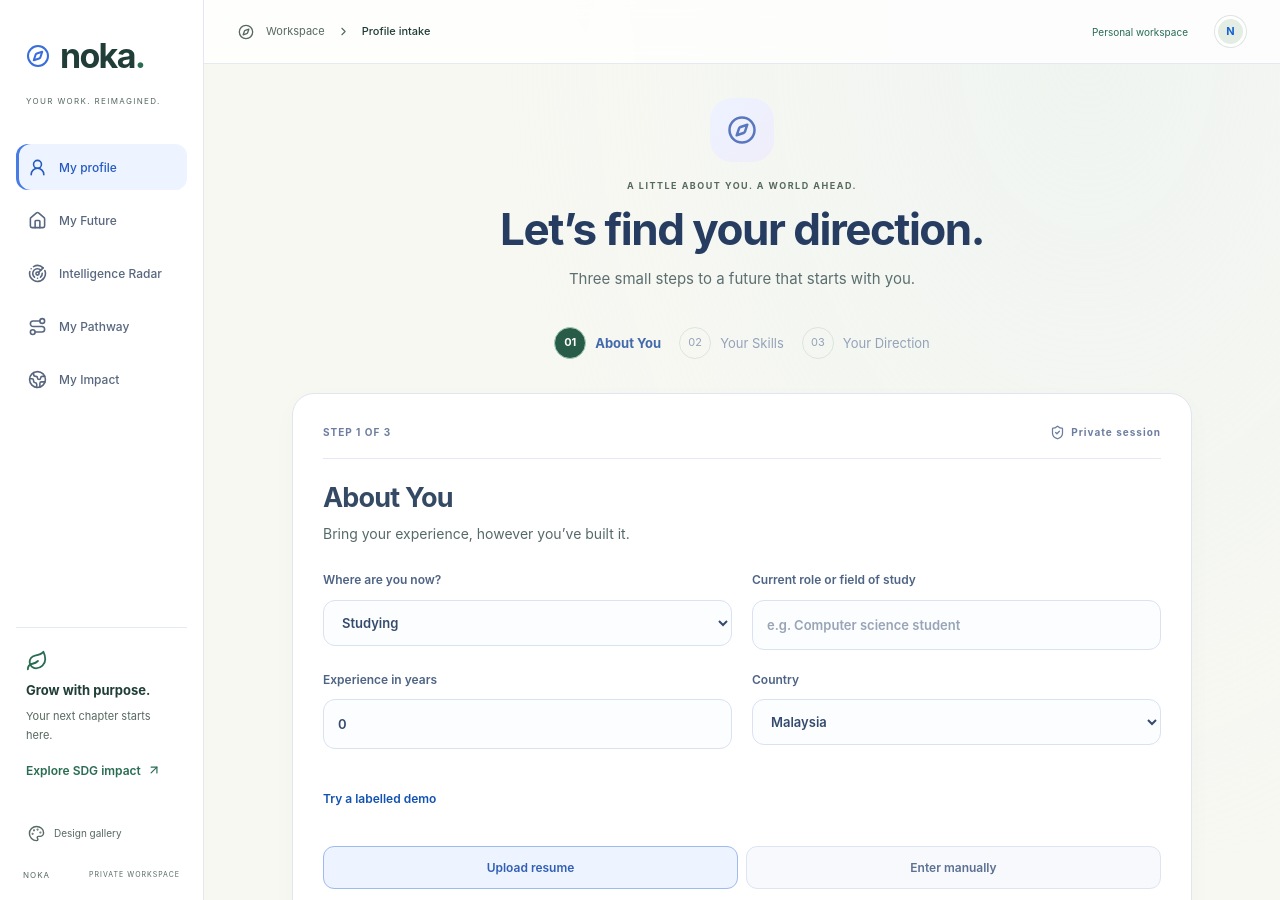
Test case: private profile journey › deduplicates OpenAI suggestions and allows adding without a per-skill dropdown
Click the button "Enter manually".
click(954, 868)  # box x1=746 y1=846 x2=1161 y2=889
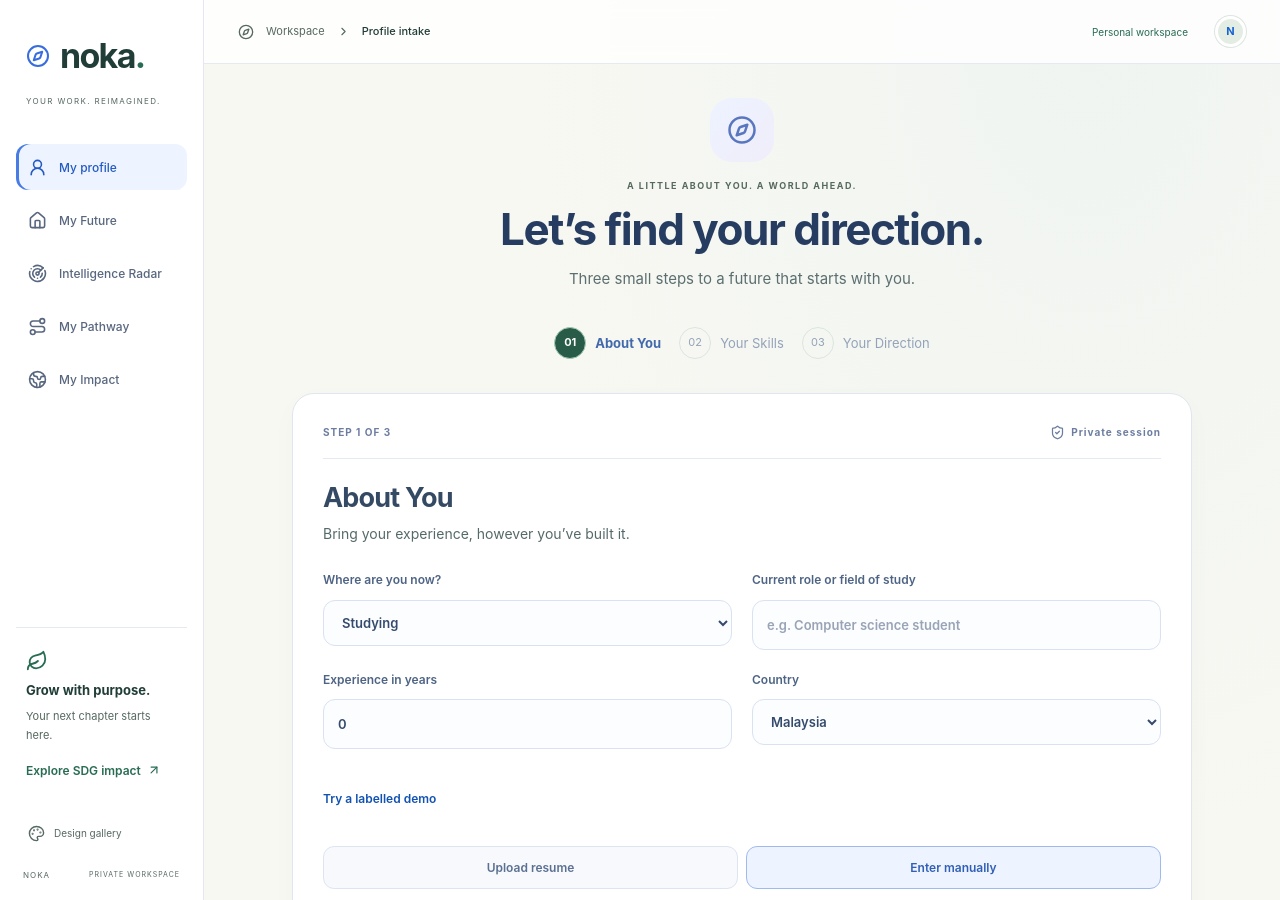
Type "Computer science" into the field labelled "Current role or field of study".
click(956, 625); type("Computer science")  # box x1=752 y1=600 x2=1161 y2=650
(page scrolled)
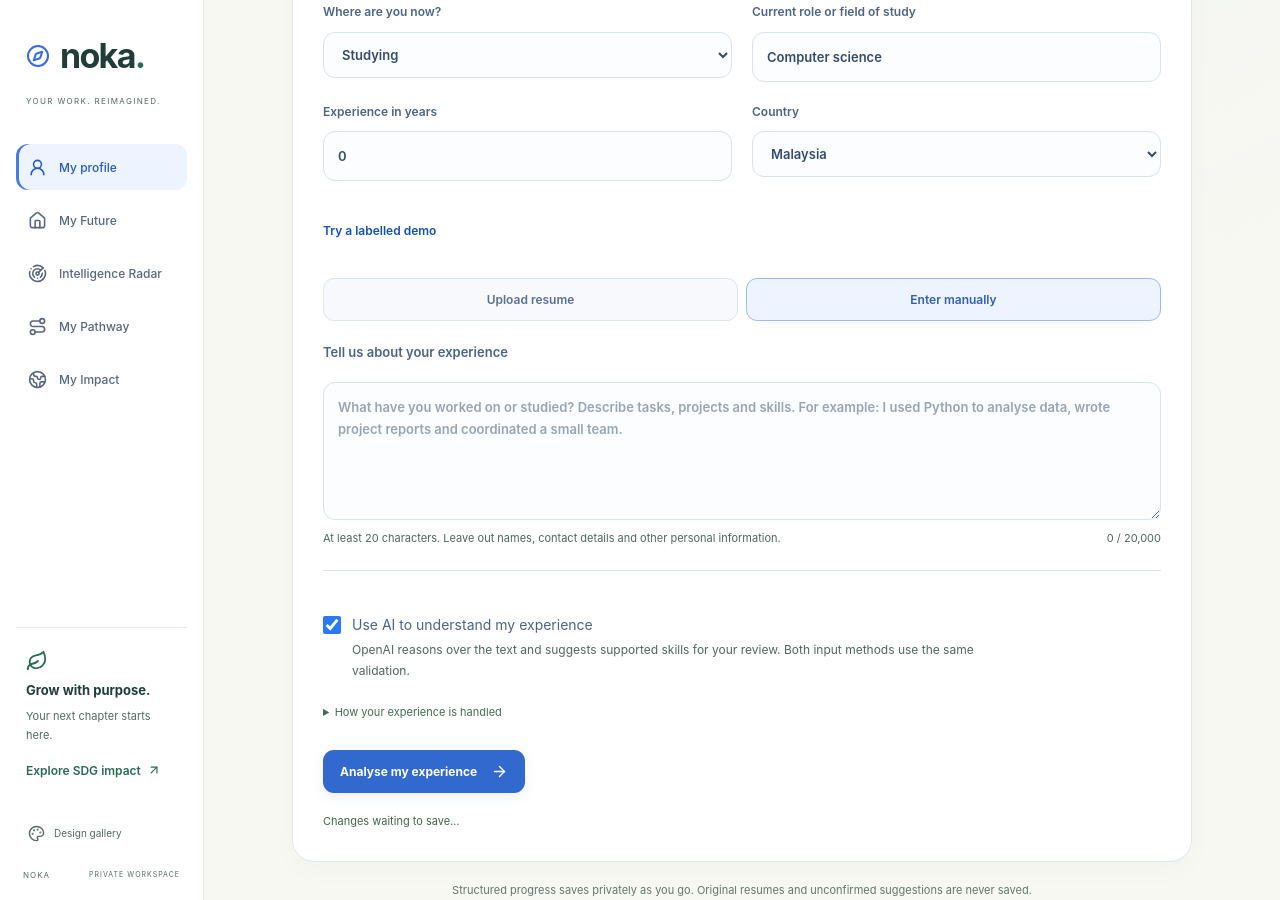
Replace the text in the text box labelled "your experience" with "I used Python programming to build tools, wrote reports and used critical thinking." at (742, 451), box x1=323 y1=382 x2=1161 y2=520
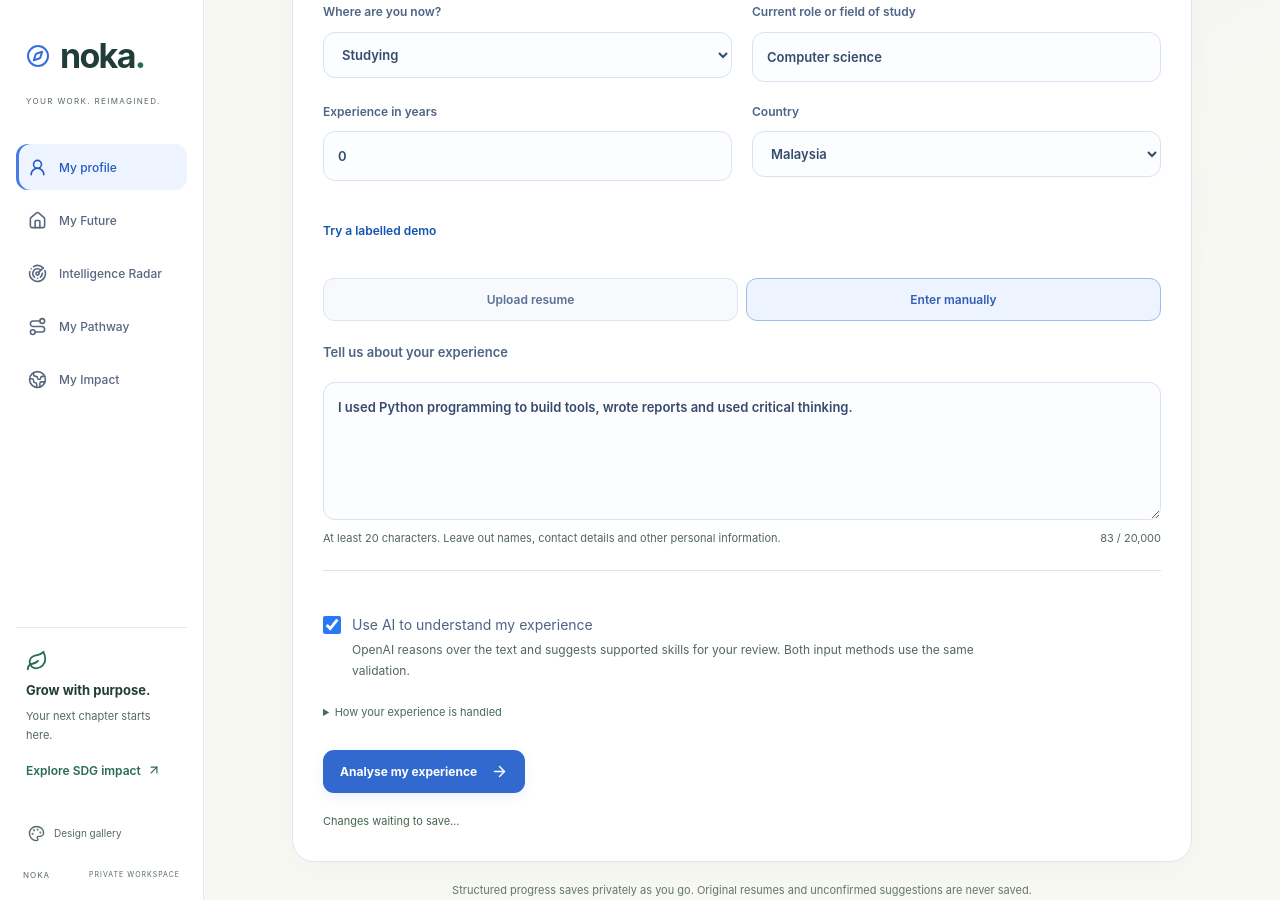
Click the button "Analyse my experience".
click(424, 771)  # box x1=323 y1=750 x2=525 y2=793
(page scrolled)
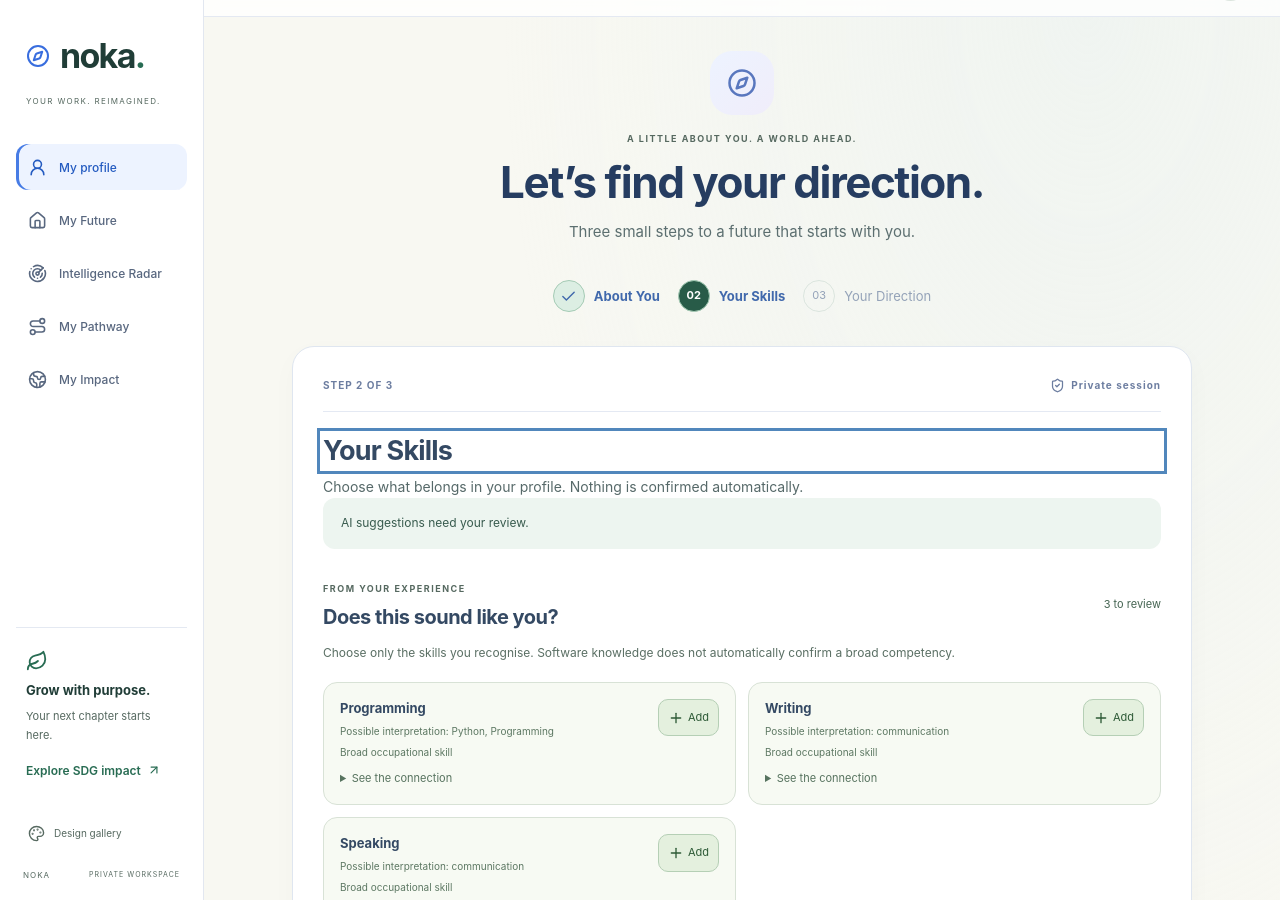
Expected: the heading "Your Skills" is shown, x1=323 y1=434 x2=452 y2=467
Expected: the number of buttons named "Add Programming" is 1
Click the button with aria-label "Add Programming".
click(688, 718)  # box x1=658 y1=699 x2=719 y2=736
(page scrolled)
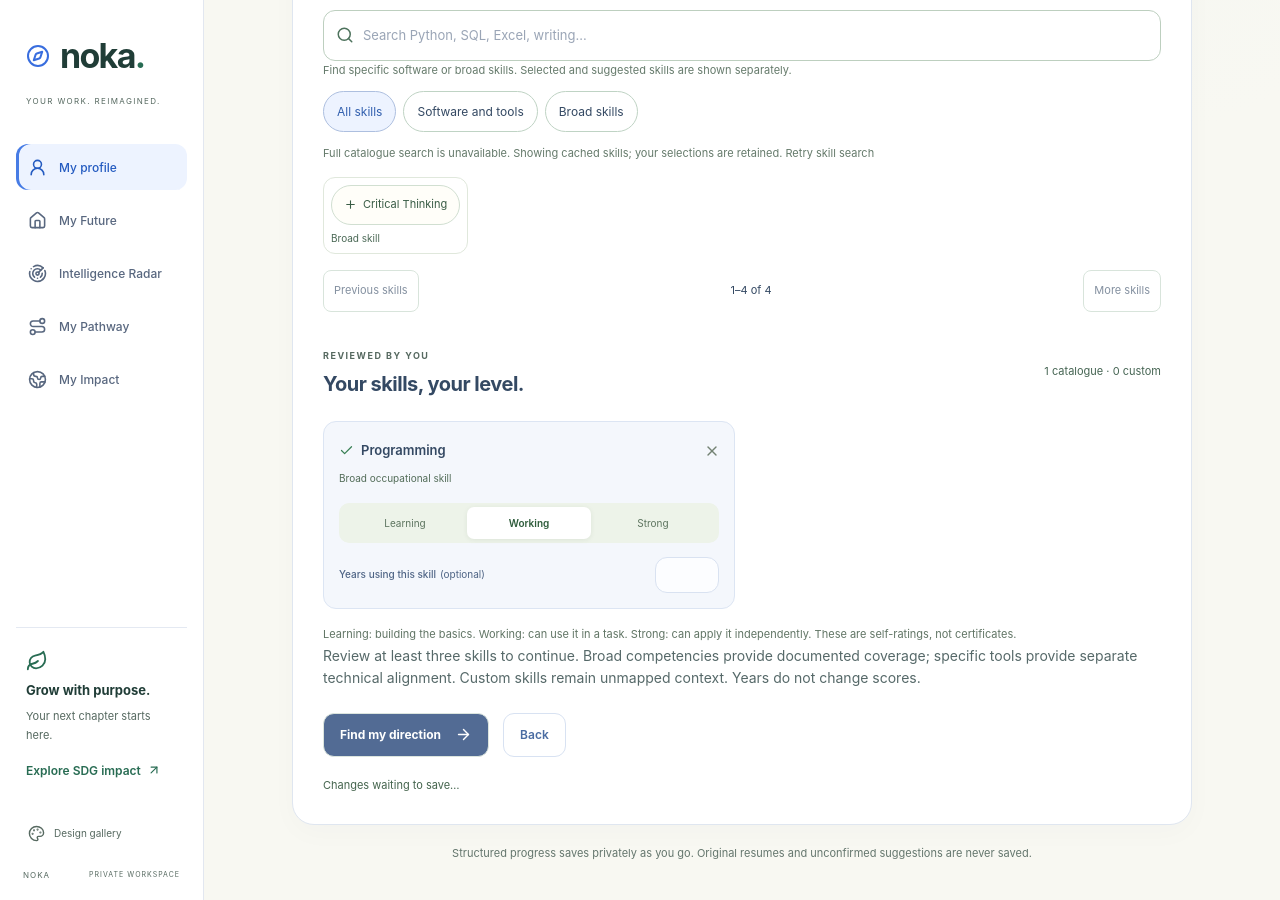
Expected: the text "Programming" is shown, x1=339 y1=440 x2=446 y2=461
Expected: the number of elements named "Programming proficiency" is 1, x1=339 y1=503 x2=719 y2=543
Click the button named "Remove Programming".
click(712, 451)  # box x1=697 y1=429 x2=727 y2=473
(page scrolled)
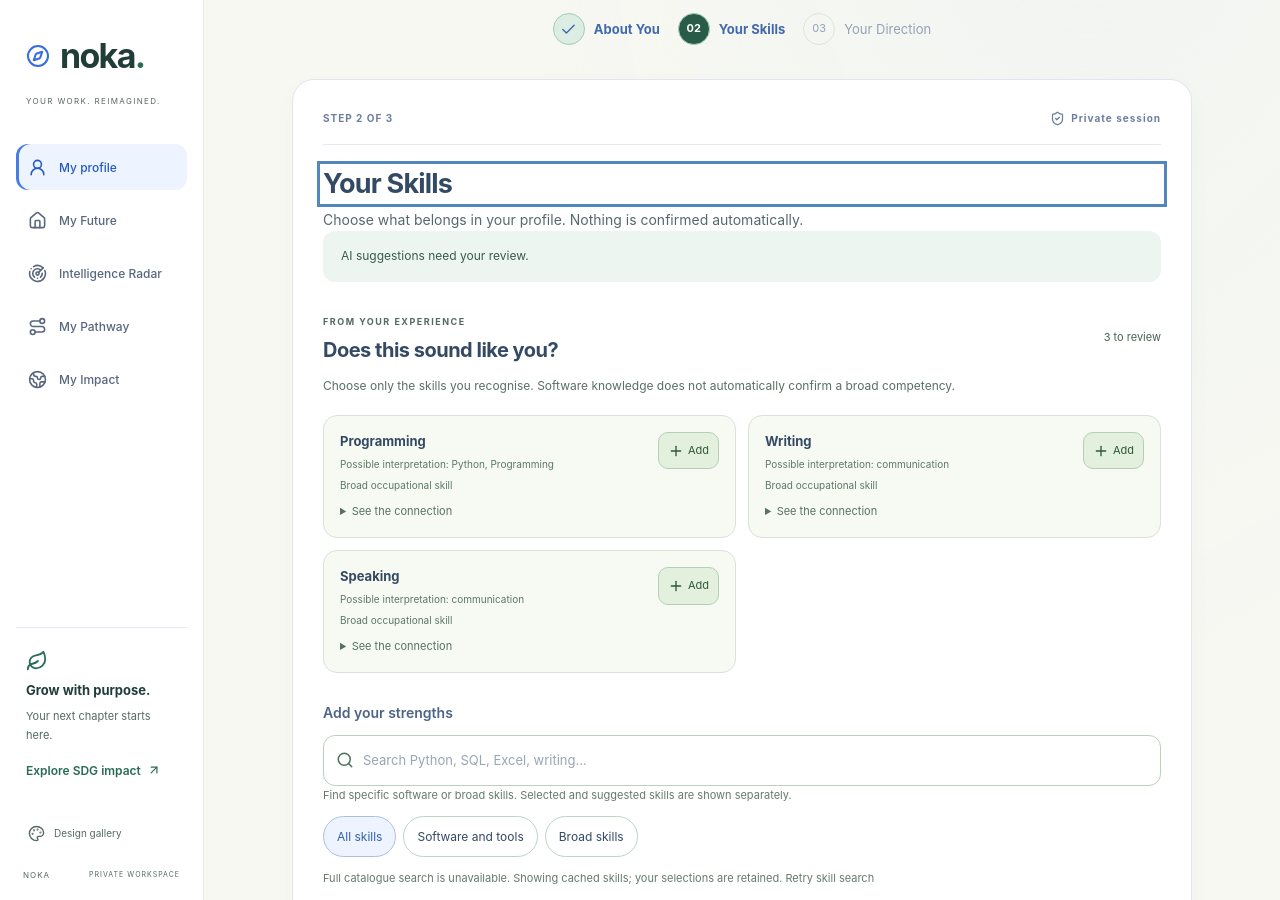
Expected: the button with aria-label "Add Programming" is enabled, x1=658 y1=432 x2=719 y2=469
